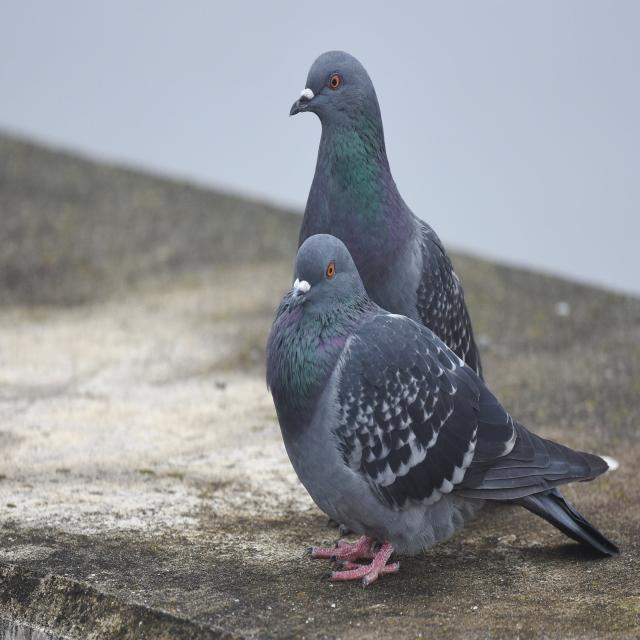Pigeon: (266, 232, 617, 581), (289, 46, 480, 377)
